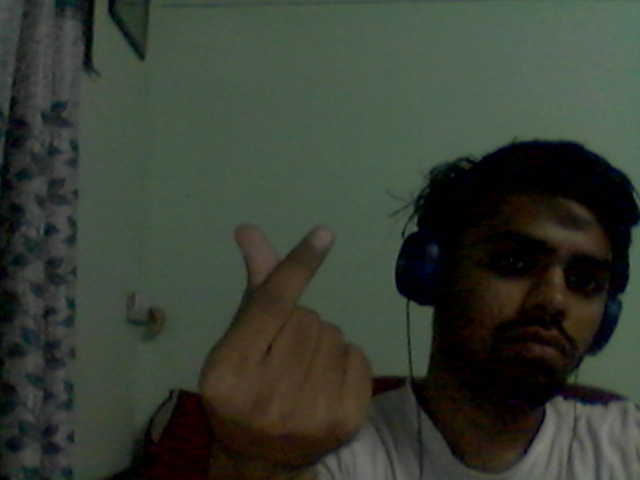I Love You: (181, 208, 383, 476)
